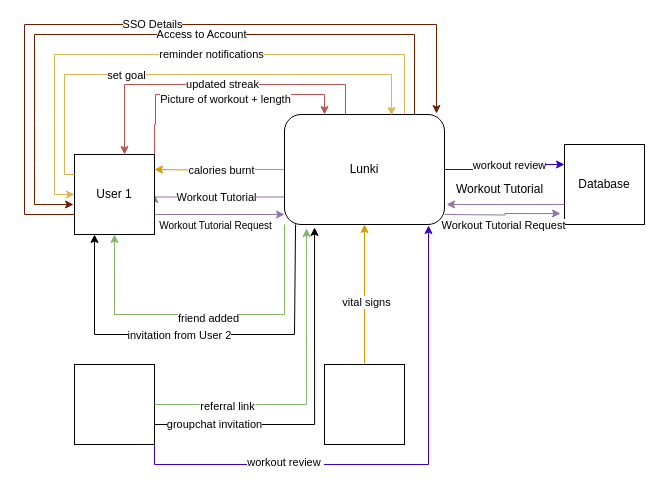
This 662x490 diagram has some shape labels left out. The centre of each missing label's shape, as x and y in pixels:
"FitBit, Apple Watch, etc." goes at pixel 364 404.
"User 2" goes at pixel 114 404.
